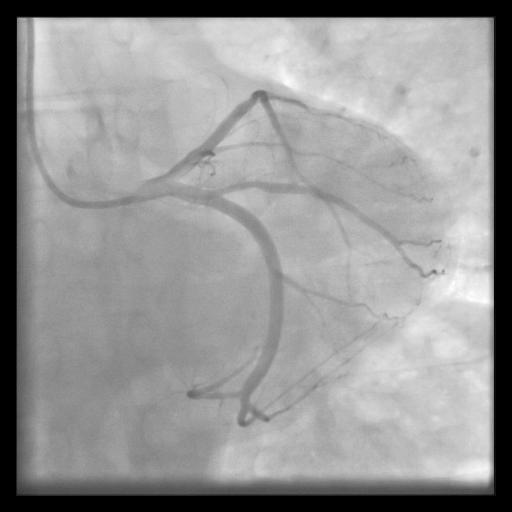Stenosis: (218, 180, 274, 197)
